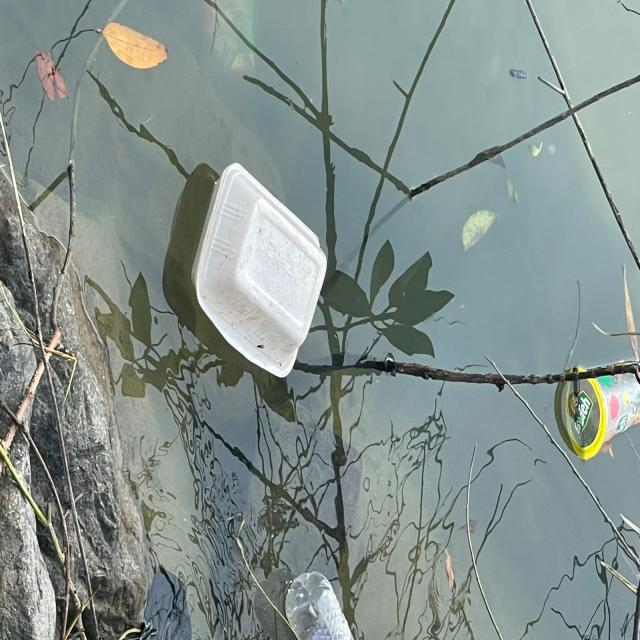Botol Plastik: (280, 558, 360, 640)
Bungkus Makanan: (185, 160, 333, 386)
Bungkus Minuman: (554, 359, 640, 465)
